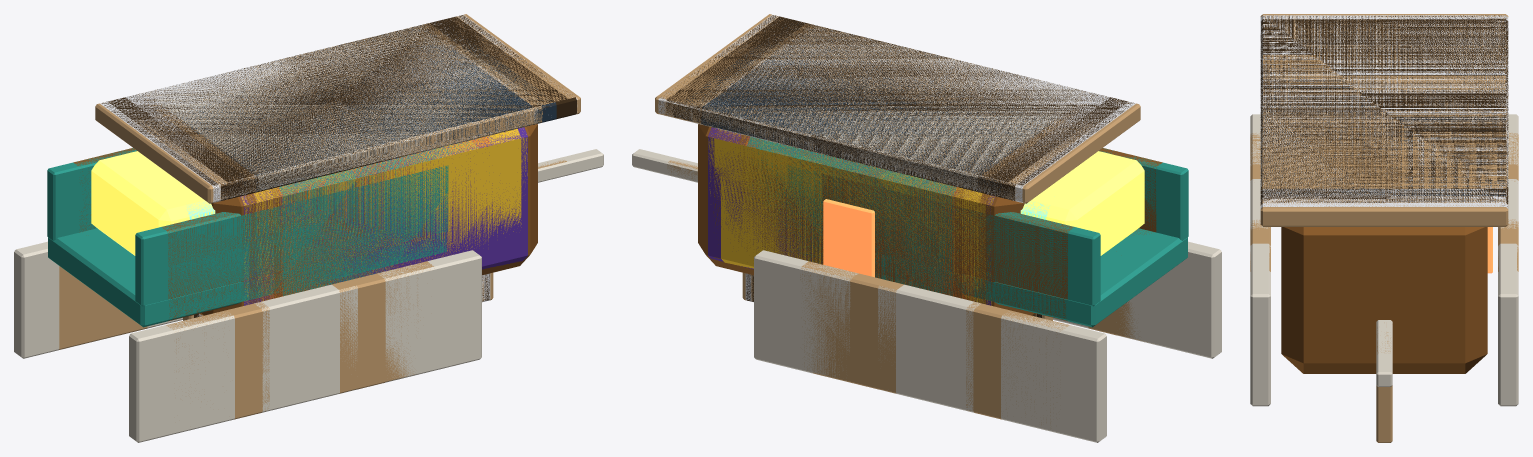
Rendered from flagship_props_011.glb.
3 views of the same model, side by side, from view 1: azimuth 30°, elevation 25°; view 2: azimuth 150°, elevation 25°; view 3: azimuth 270°, elevation 25° (orthographic). The views are drawn at different scales.
Parts seen in each view (by area): view 1: Prop_BBIsle_Cart_18, Prop_BBIsle_Coop_05, Prop_BBIsle_Coop_00, Prop_BBIsle_Coop_01, Prop_BBIsle_Cart_19, Prop_BBIsle_Coop_02, Prop_BBIsle_Coop_04, Prop_BBIsle_Coop_03, Prop_BBIsle_Coop_07, Prop_BBIsle_Coop_12, Prop_BBIsle_Coop_08, Prop_BBIsle_Coop_10 (+4 smaller); view 2: Prop_BBIsle_Cart_18, Prop_BBIsle_Coop_00, Prop_BBIsle_Cart_19, Prop_BBIsle_Coop_01, Prop_BBIsle_Coop_02, Prop_BBIsle_Coop_04, Prop_BBIsle_Coop_05, Prop_BBIsle_Coop_07, Prop_BBIsle_Coop_03, Prop_BBIsle_Coop_12, Prop_BBIsle_Coop_13, Prop_BBIsle_Coop_10 (+4 smaller); view 3: Prop_BBIsle_Coop_12, Prop_BBIsle_Coop_05, Prop_BBIsle_Coop_03, Prop_BBIsle_Coop_00, Prop_BBIsle_Coop_02, Prop_BBIsle_Cart_18, Prop_BBIsle_Coop_14, Prop_BBIsle_Cart_19, Prop_BBIsle_Coop_10, Prop_BBIsle_Coop_07, Prop_BBIsle_Coop_08, Prop_BBIsle_Coop_01.
Part boxes in pixels (<box>): Prop_BBIsle_Cart_18: <box>14,148,603,442</box>; Prop_BBIsle_Coop_05: <box>144,19,560,301</box>; Prop_BBIsle_Coop_00: <box>107,16,568,316</box>; Prop_BBIsle_Coop_01: <box>145,26,529,295</box>; Prop_BBIsle_Cart_19: <box>59,148,566,419</box>; Prop_BBIsle_Coop_02: <box>142,23,542,298</box>; Prop_BBIsle_Coop_04: <box>168,33,532,293</box>; Prop_BBIsle_Coop_03: <box>100,14,577,316</box>; Prop_BBIsle_Coop_07: <box>118,16,569,316</box>; Prop_BBIsle_Coop_12: <box>95,14,580,320</box>; Prop_BBIsle_Coop_08: <box>156,25,537,262</box>; Prop_BBIsle_Coop_10: <box>102,15,576,317</box>; Prop_BBIsle_Cart_18: <box>632,148,1221,442</box>; Prop_BBIsle_Coop_00: <box>666,16,1127,303</box>; Prop_BBIsle_Cart_19: <box>667,148,1162,424</box>; Prop_BBIsle_Coop_01: <box>703,26,1089,295</box>; Prop_BBIsle_Coop_02: <box>693,23,1083,298</box>; Prop_BBIsle_Coop_04: <box>701,38,1061,289</box>; Prop_BBIsle_Coop_05: <box>673,18,1094,301</box>; Prop_BBIsle_Coop_07: <box>664,16,1102,316</box>; Prop_BBIsle_Coop_03: <box>658,14,1135,315</box>; Prop_BBIsle_Coop_12: <box>655,14,1140,320</box>; Prop_BBIsle_Coop_13: <box>686,27,1109,197</box>; Prop_BBIsle_Coop_10: <box>659,15,1134,317</box>; Prop_BBIsle_Coop_12: <box>1260,14,1508,442</box>; Prop_BBIsle_Coop_05: <box>1260,23,1508,198</box>; Prop_BBIsle_Coop_03: <box>1260,15,1508,208</box>; Prop_BBIsle_Coop_00: <box>1260,19,1508,273</box>; Prop_BBIsle_Coop_02: <box>1261,51,1507,188</box>; Prop_BBIsle_Cart_18: <box>1250,114,1518,406</box>; Prop_BBIsle_Coop_14: <box>1261,39,1506,196</box>; Prop_BBIsle_Cart_19: <box>1250,133,1518,354</box>; Prop_BBIsle_Coop_10: <box>1260,15,1508,206</box>; Prop_BBIsle_Coop_07: <box>1261,38,1507,204</box>; Prop_BBIsle_Coop_08: <box>1260,39,1508,186</box>; Prop_BBIsle_Coop_01: <box>1260,39,1508,175</box>.
Bounding box in the file's own units: 3.17 × 1.35 × 1.3.
